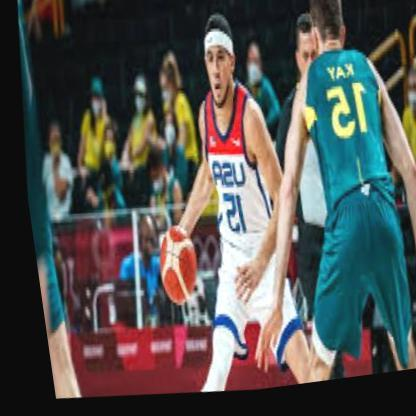basketball: (143, 223, 196, 313)
